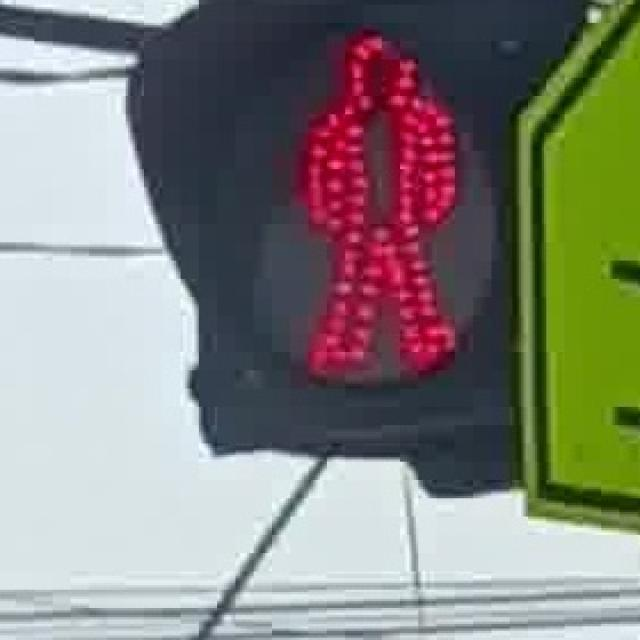red-crossing: (272, 18, 482, 382)
